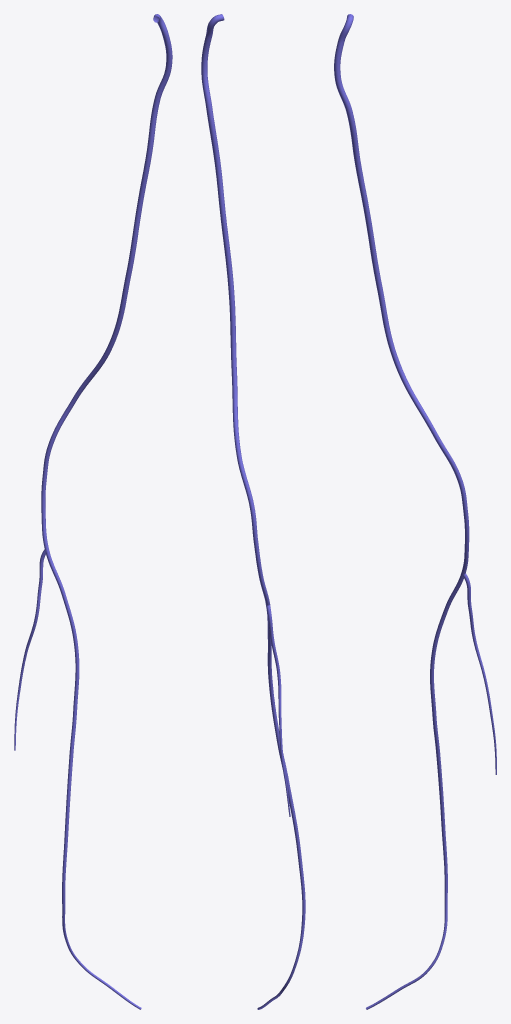
The model's file is Great_saphenous_vein.r_BezierCurve.317.glb.
3 renders of one model, left to right at view 1: azimuth 90°, elevation 25°; view 2: azimuth 210°, elevation 25°; view 3: azimuth 270°, elevation 25°, orthographic. The views are drawn at different scales.
Visible parts, largest first — view 1: Great_saphenous_vein.r_BezierCurve.317; view 2: Great_saphenous_vein.r_BezierCurve.317; view 3: Great_saphenous_vein.r_BezierCurve.317.
Boxes of the visible parts, x1=… form: Great_saphenous_vein.r_BezierCurve.317: x1=14, y1=14, x2=172, y2=1009; Great_saphenous_vein.r_BezierCurve.317: x1=201, y1=14, x2=305, y2=1009; Great_saphenous_vein.r_BezierCurve.317: x1=334, y1=14, x2=496, y2=1009.
Bounding box in the file's own units: 0.0546 × 0.8132 × 0.1189.
